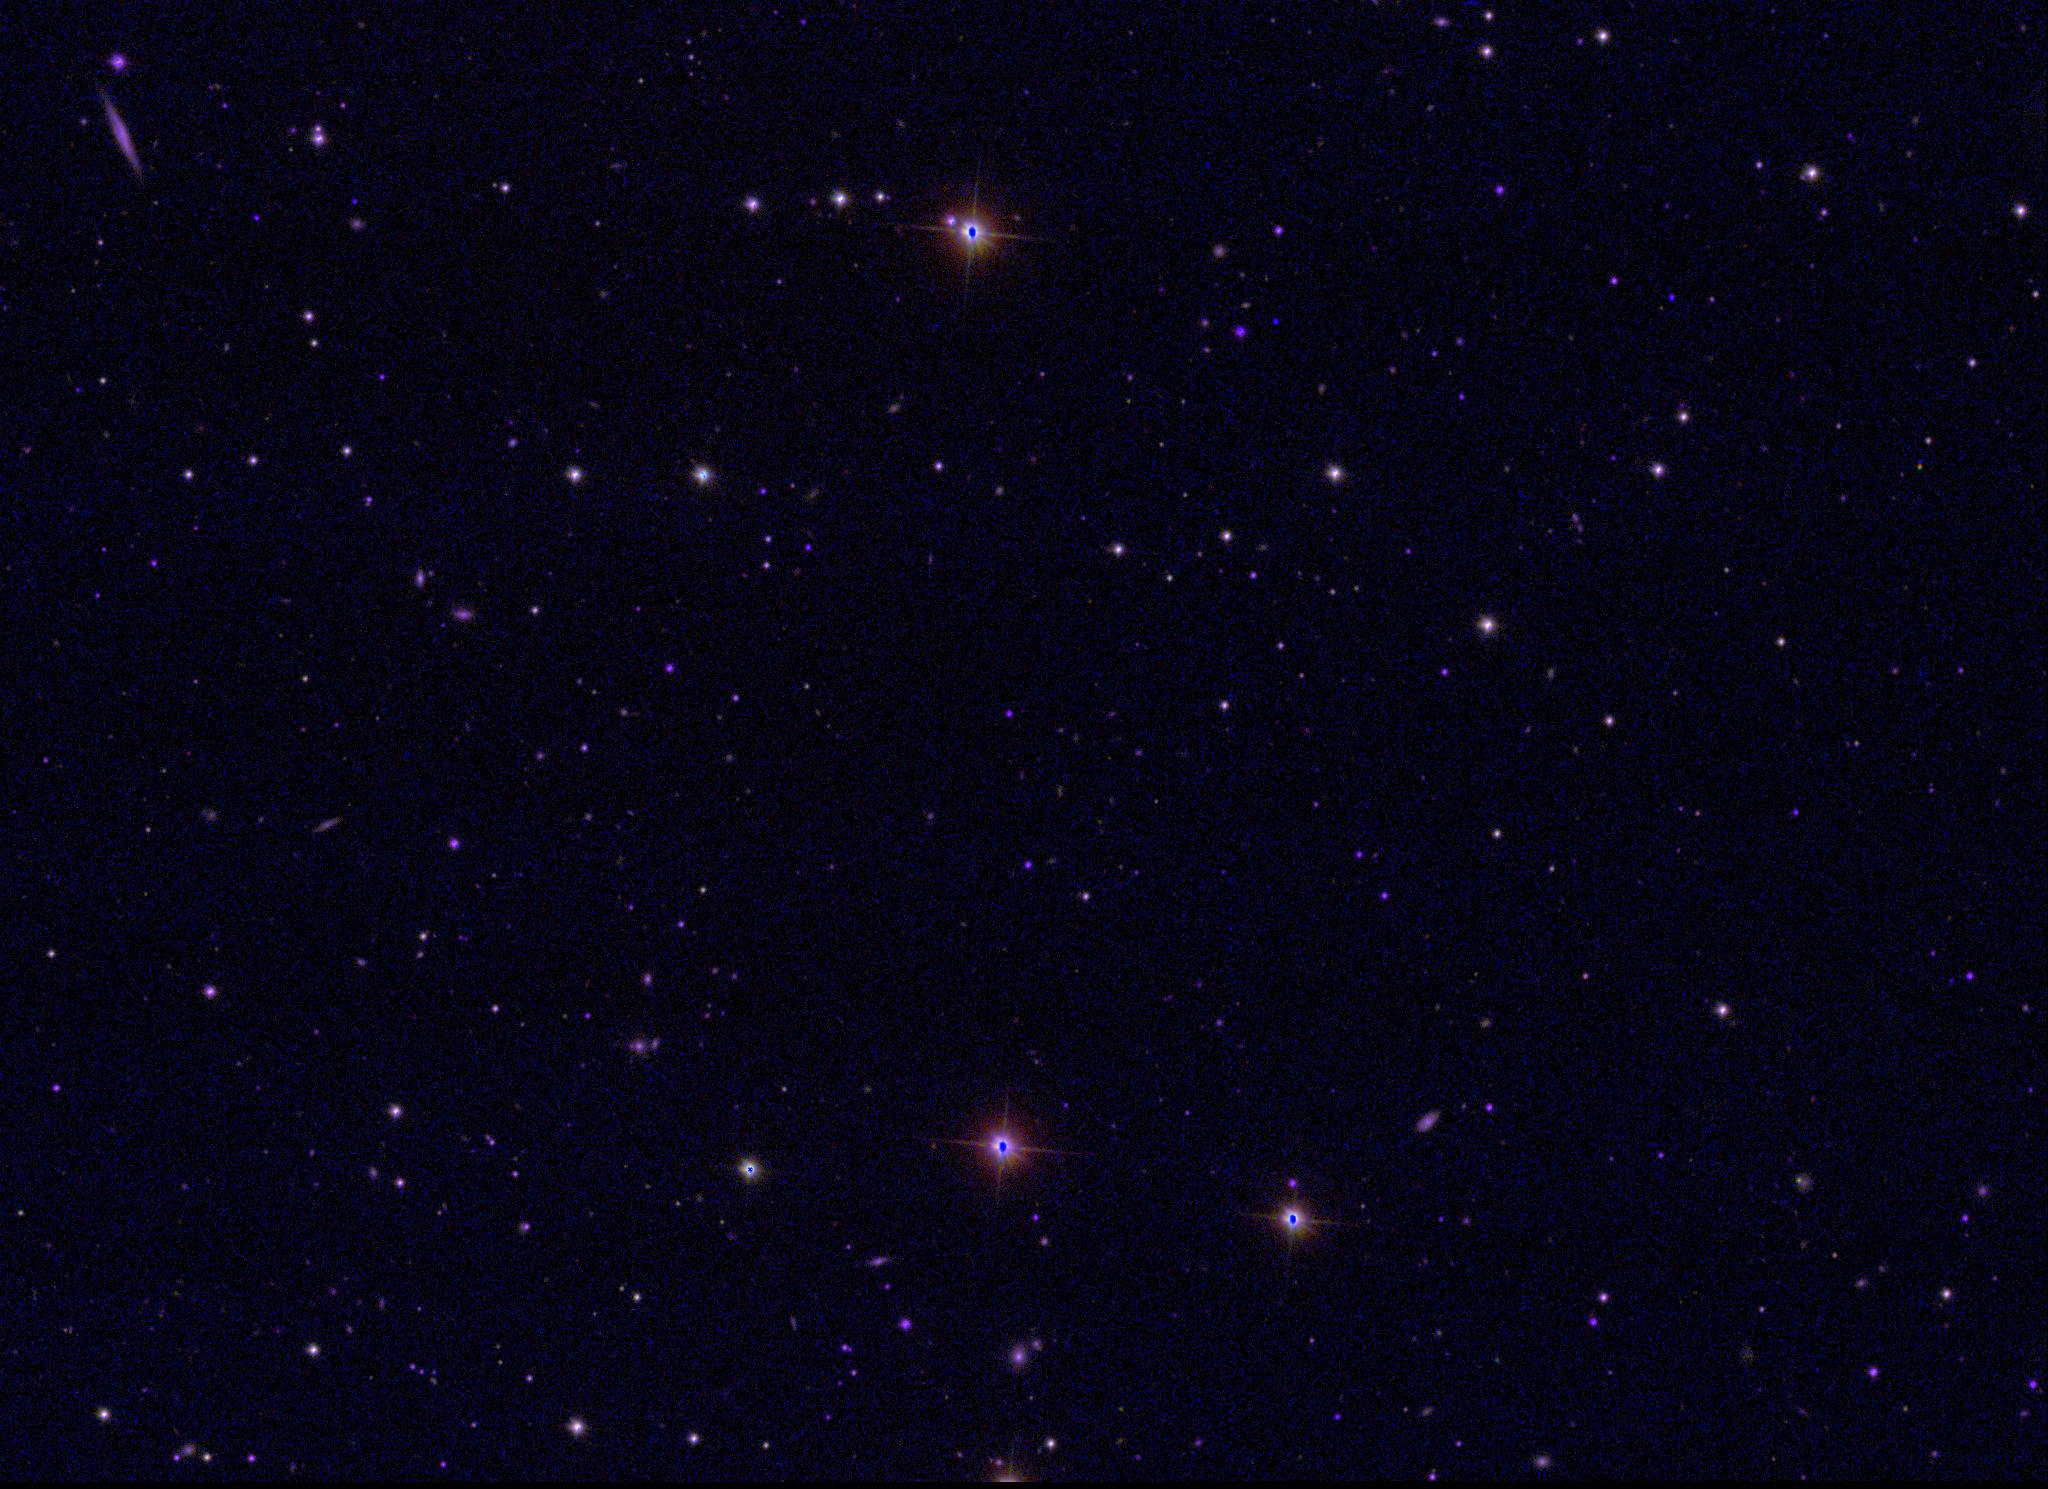L: (1269, 315, 1283, 329)
